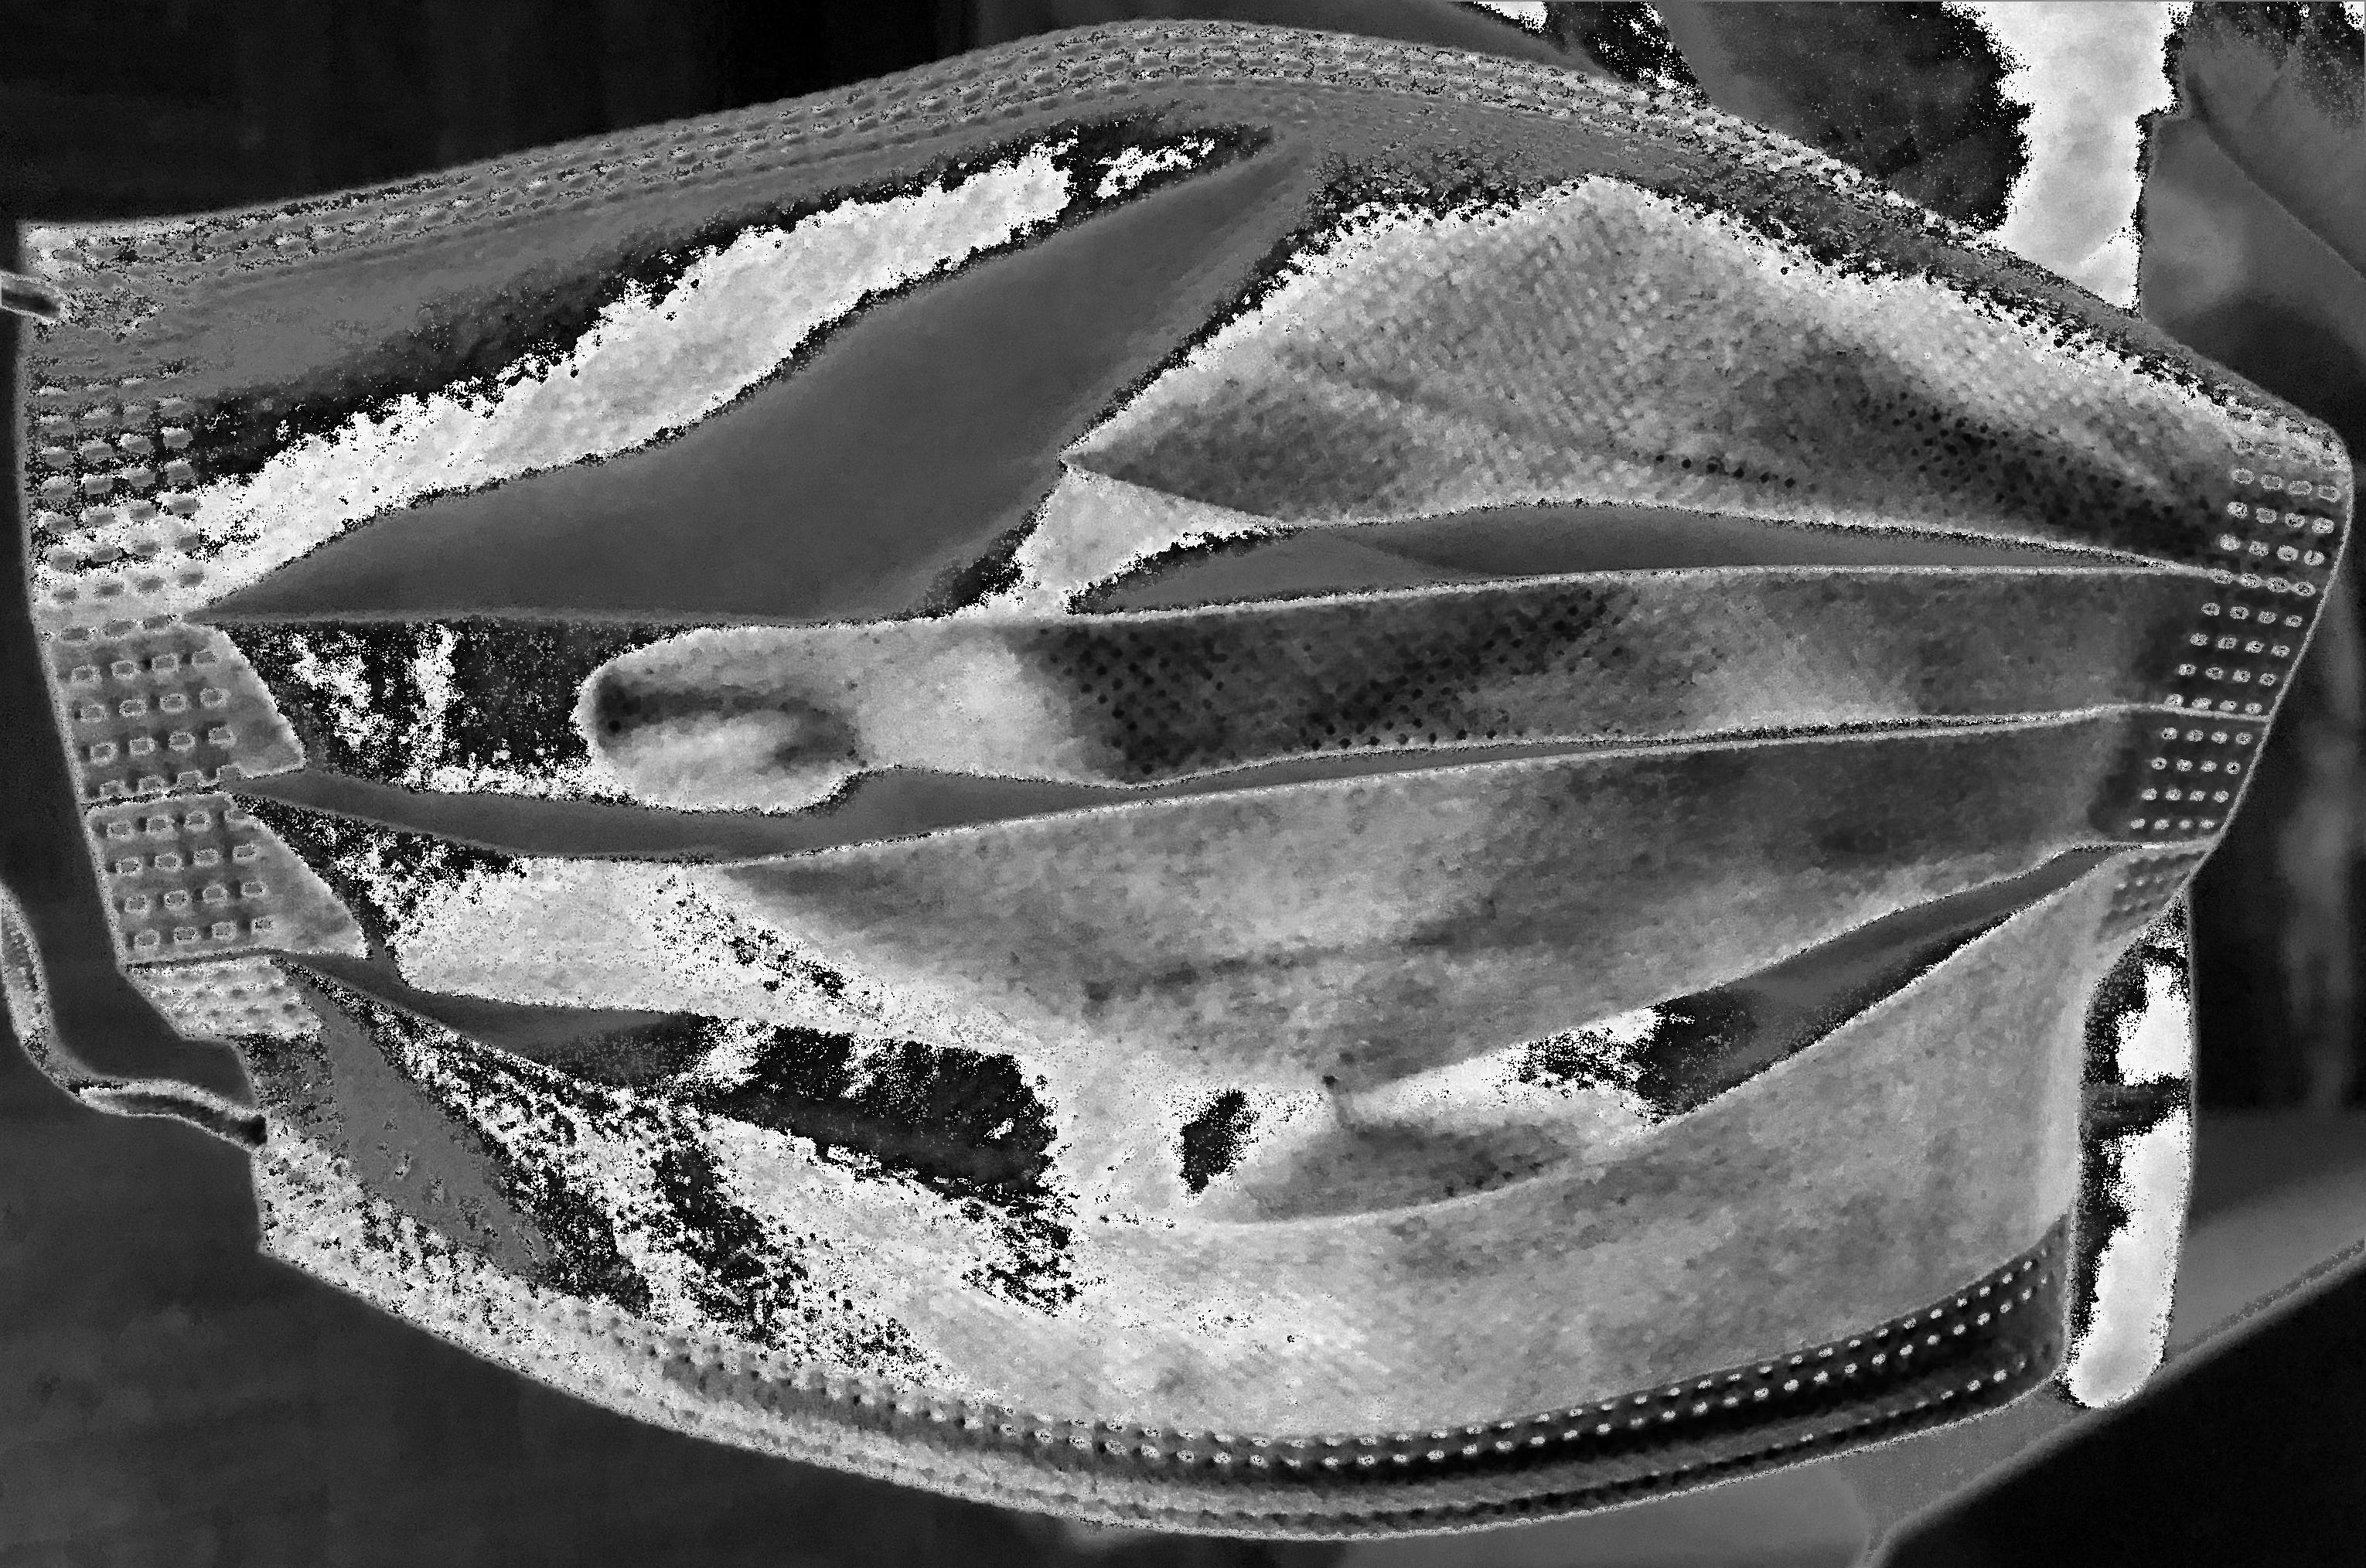High GSM: (732, 1046, 1333, 1416), (1006, 856, 1468, 1083), (1368, 229, 1719, 506)
